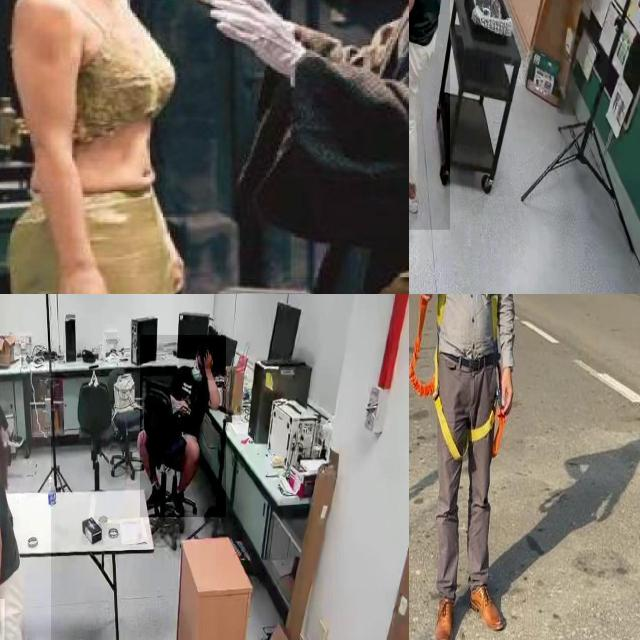Harness: (409, 300, 507, 462)
hand_glove: (212, 0, 299, 72), (186, 0, 280, 27)
hand_noglove: (53, 272, 116, 294), (163, 245, 184, 293), (202, 346, 214, 369), (205, 351, 214, 380)
head_nohelmet: (197, 341, 215, 366)
person: (9, 0, 212, 294), (290, 0, 409, 294), (140, 335, 226, 518), (0, 354, 51, 640), (409, 0, 450, 230)
shoes: (5, 418, 26, 450), (409, 176, 421, 214)
